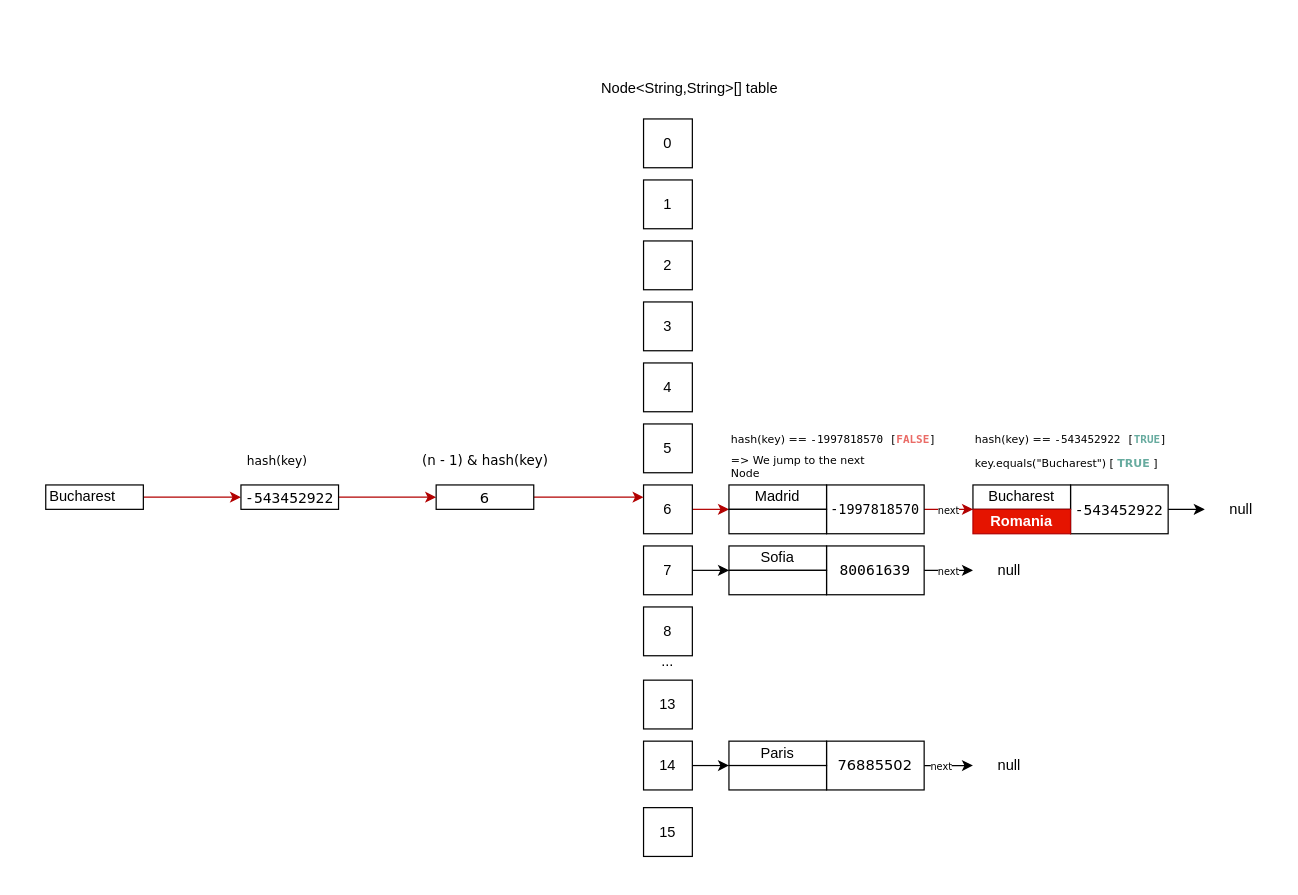
Some shapes in this 1298 by 895 pixel diagram are drawn without their labels. Each missing label, with the centre of its shape:
"Bulgaria" belongs at point 777,582.
"France" belongs at point 777,777.
"Spain" belongs at point 777,521.
